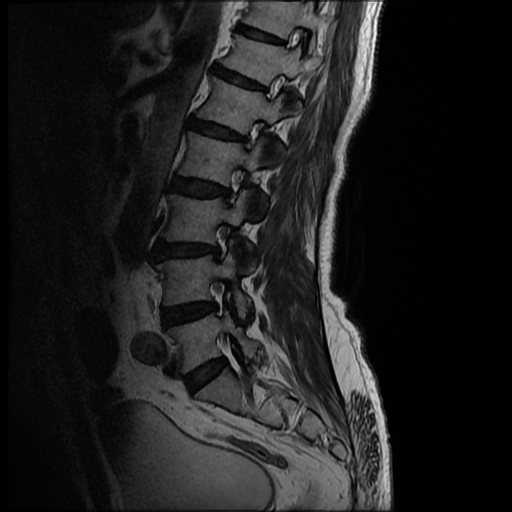LFS0: (201, 271, 238, 321), (216, 158, 249, 213), (233, 110, 270, 159), (204, 216, 235, 268)
